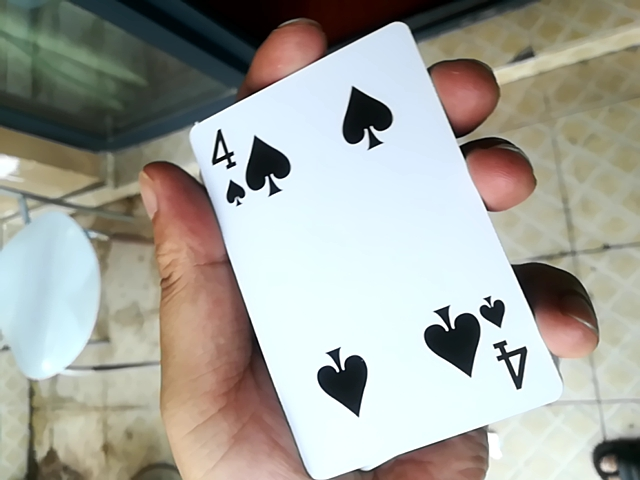ht 4: (173, 24, 546, 473)
